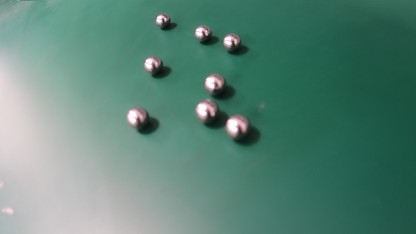ironball: (225, 114, 249, 140), (195, 99, 218, 124), (204, 73, 226, 95), (127, 107, 148, 130), (144, 56, 163, 75), (222, 33, 241, 51), (194, 25, 211, 42), (155, 13, 170, 27)
